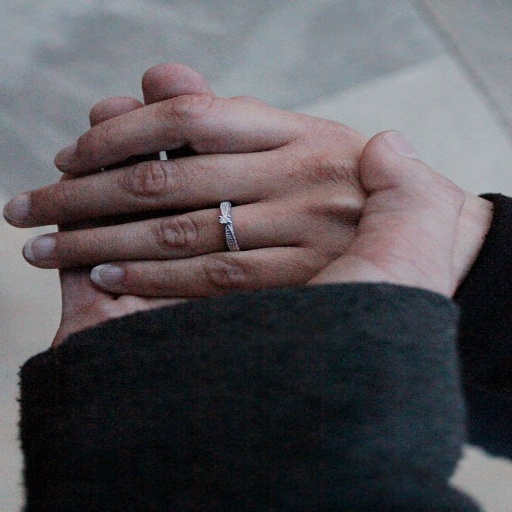hand: (46, 59, 470, 344)
